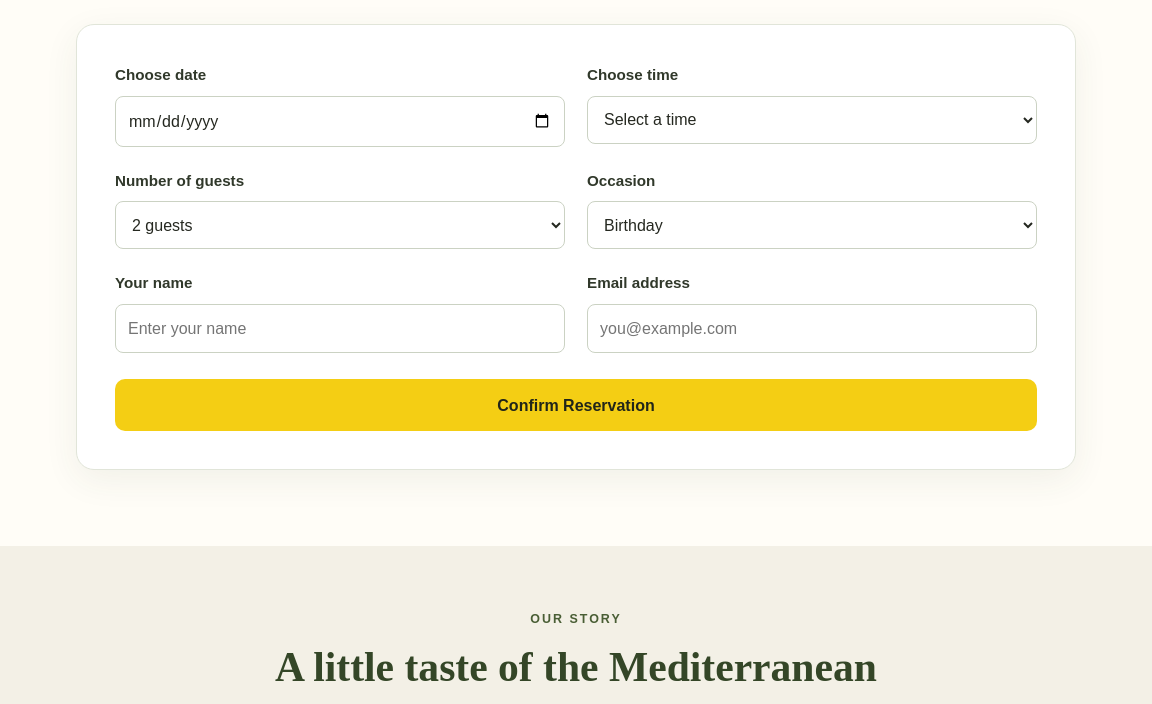
Scenario: Booking form › shows validation errors when submitted empty
The width and height of the screenshot is (1152, 704).
(page scrolled)
Click the button "Confirm Reservation" at [576, 405], box [115,379,1037,431]
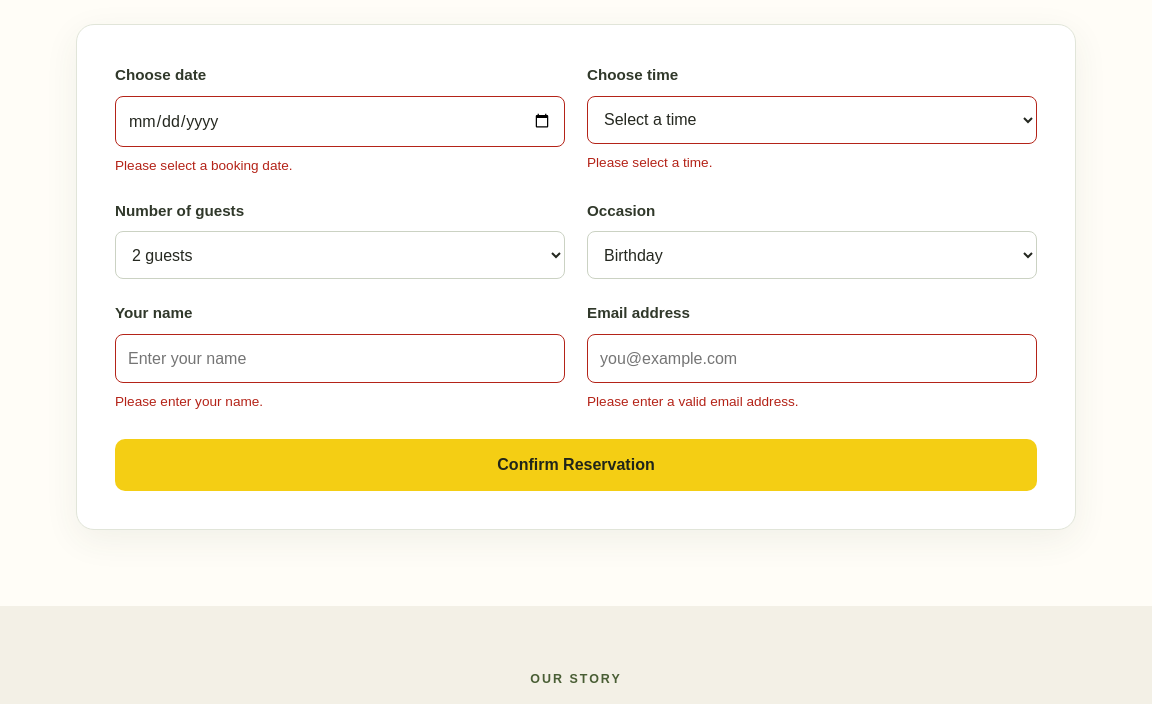
Now the text "Please select a booking date." is shown, box [115,158,293,173]
Now the text "Please select a time." is shown, box [587,154,712,170]
Now the text "Please enter your name." is shown, box [115,394,263,409]
